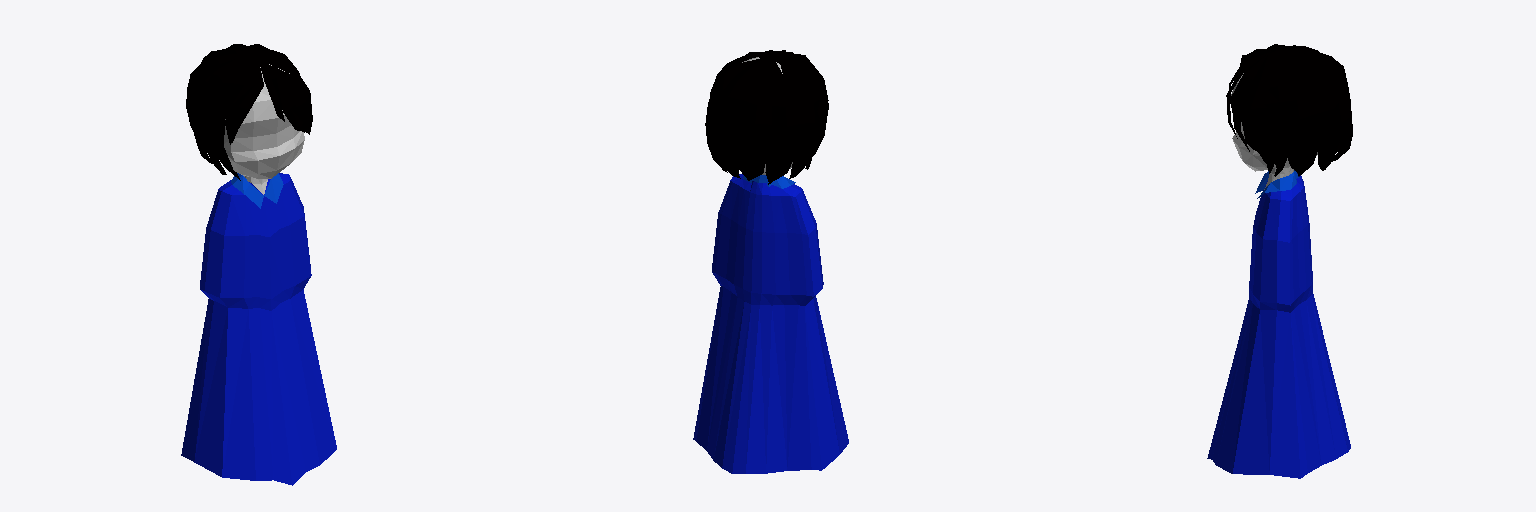
Rendered from bonek5.obj.
3 renders of one model, left to right at view 1: azimuth 30°, elevation 25°; view 2: azimuth 150°, elevation 25°; view 3: azimuth 270°, elevation 25°, orthographic.
Visible parts, largest first — view 1: Object_123_cuerpo_blue_0, pelo_Material.001_0.001, Object_122_cuerpo_Skin_0, Object_124_cuerpo_light-blue_0; view 2: Object_123_cuerpo_blue_0, pelo_Material.001_0.001; view 3: Object_123_cuerpo_blue_0, pelo_Material.001_0.001, Object_122_cuerpo_Skin_0, Object_124_cuerpo_light-blue_0.
Boxes of the visible parts, box(x1,y1,x2,y2) form: Object_123_cuerpo_blue_0: box(181, 173, 336, 485); pelo_Material.001_0.001: box(186, 44, 312, 180); Object_122_cuerpo_Skin_0: box(224, 64, 304, 194); Object_124_cuerpo_light-blue_0: box(231, 173, 283, 208); Object_123_cuerpo_blue_0: box(693, 174, 848, 473); pelo_Material.001_0.001: box(705, 50, 828, 184); Object_123_cuerpo_blue_0: box(1207, 173, 1350, 478); pelo_Material.001_0.001: box(1226, 44, 1352, 176); Object_122_cuerpo_Skin_0: box(1231, 73, 1317, 189); Object_124_cuerpo_light-blue_0: box(1255, 170, 1298, 198).
Size of the model in its own units: 0.9993 by 2.9 by 0.9422.